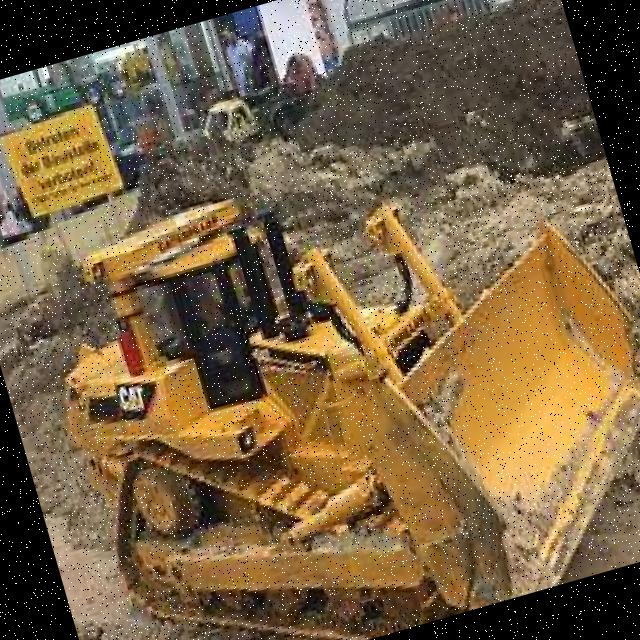Bulldozer: (12, 81, 640, 640)
